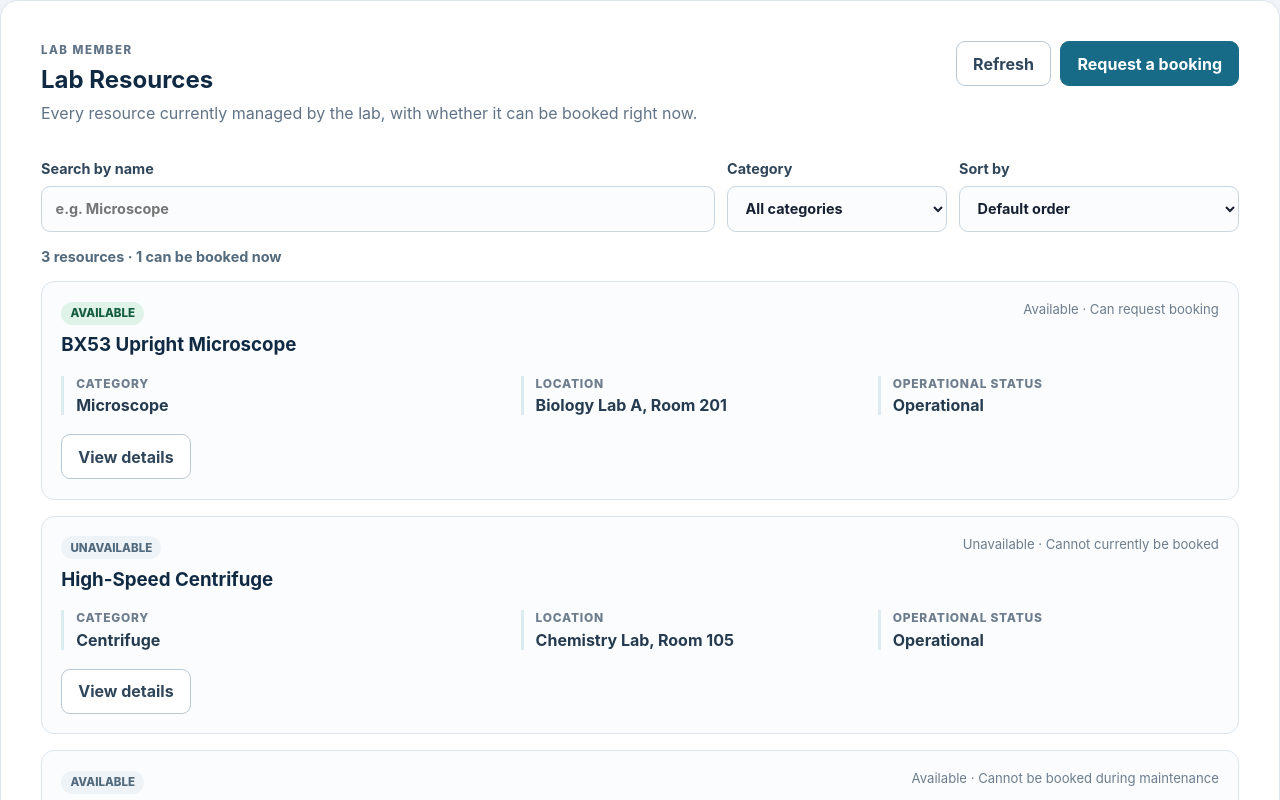
Scenario: US-3 view resource details › shows the details of the resource that was selected
Expected: the element "High-Speed Centrifuge" is shown, [41,516,1239,734]
Click the button "View details" below "High-Speed Centrifuge" at (126, 691), box [61,669,191,714]
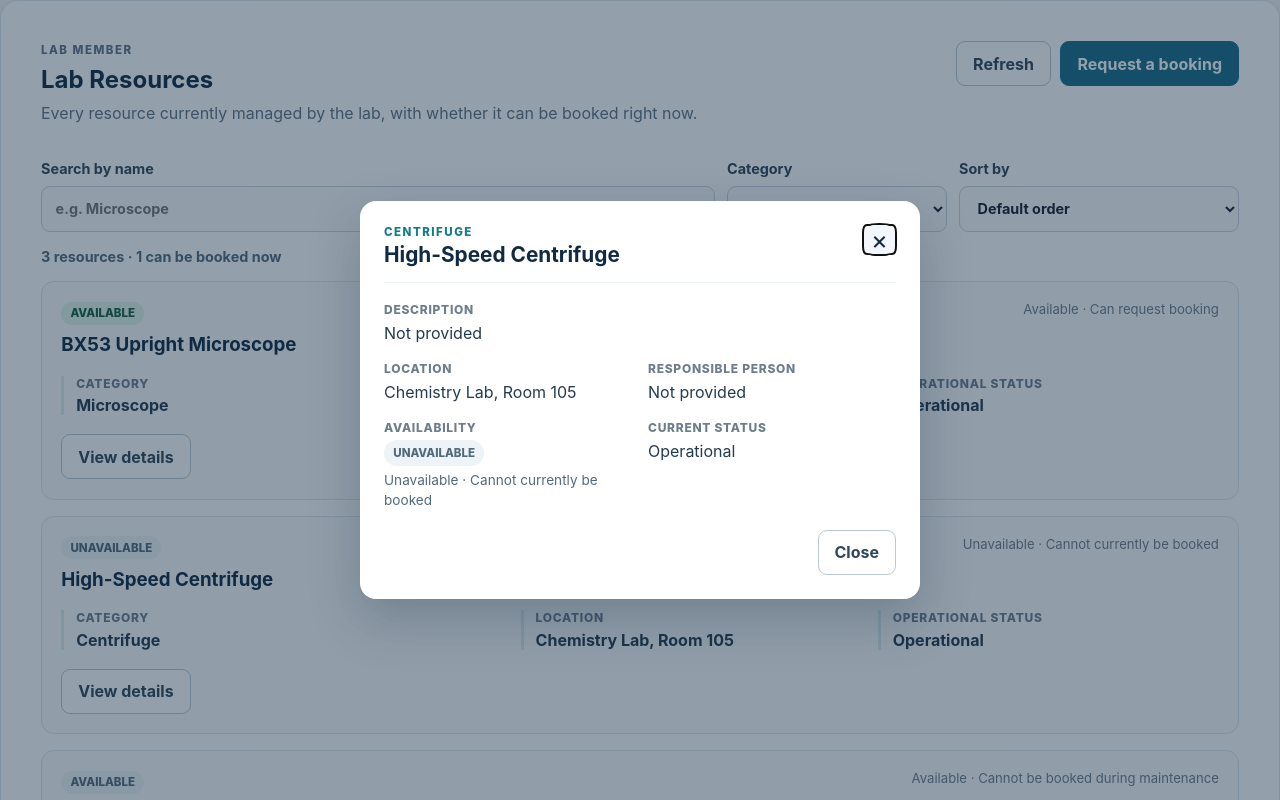
Result: the heading "High-Speed Centrifuge" is shown at [384,242,620,267]
Result: the text "Chemistry Lab, Room 105" is shown at [384,382,577,402]
